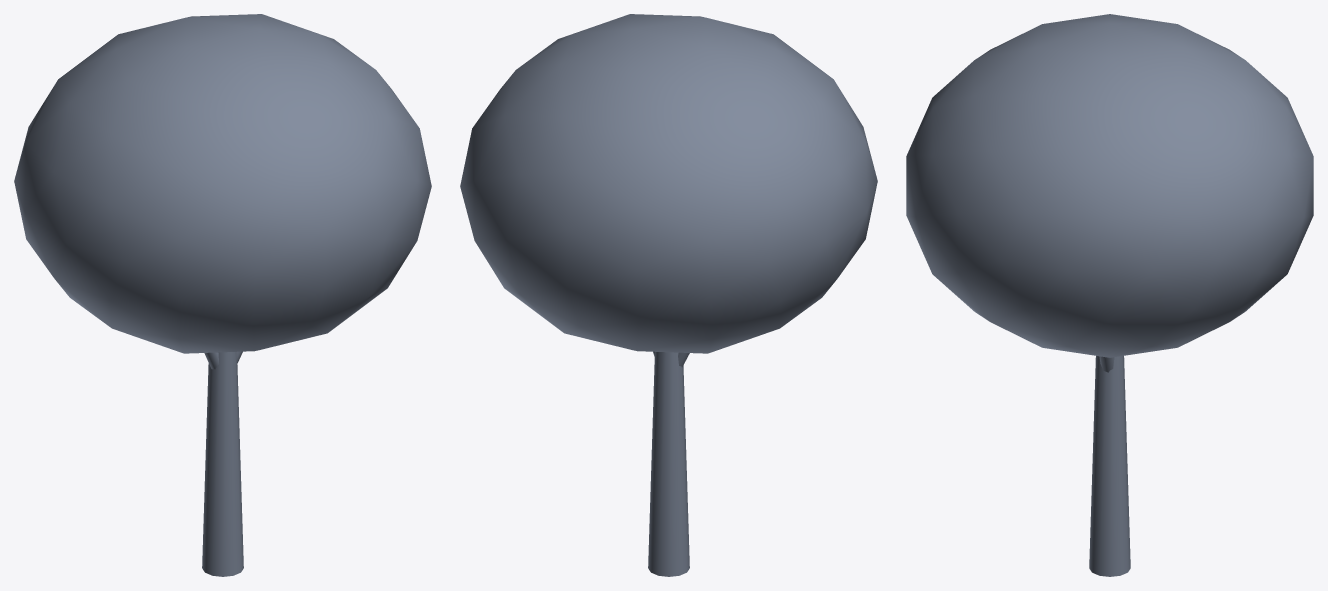
Rendered from garden-tree-rounded-lite.glb.
The picture shows the model from 3 angles, left to right: view 1: azimuth 30°, elevation 25°; view 2: azimuth 150°, elevation 25°; view 3: azimuth 270°, elevation 25°; orthographic projection.
Parts seen in each view (by area): view 1: garden-tree-rounded; view 2: garden-tree-rounded; view 3: garden-tree-rounded.
Part boxes in pixels (x1,y1,x2,y2): garden-tree-rounded: (14,14,431,576); garden-tree-rounded: (460,14,877,576); garden-tree-rounded: (906,14,1313,576).
Size of the model in its own units: 2.1 by 3 by 2.1.
